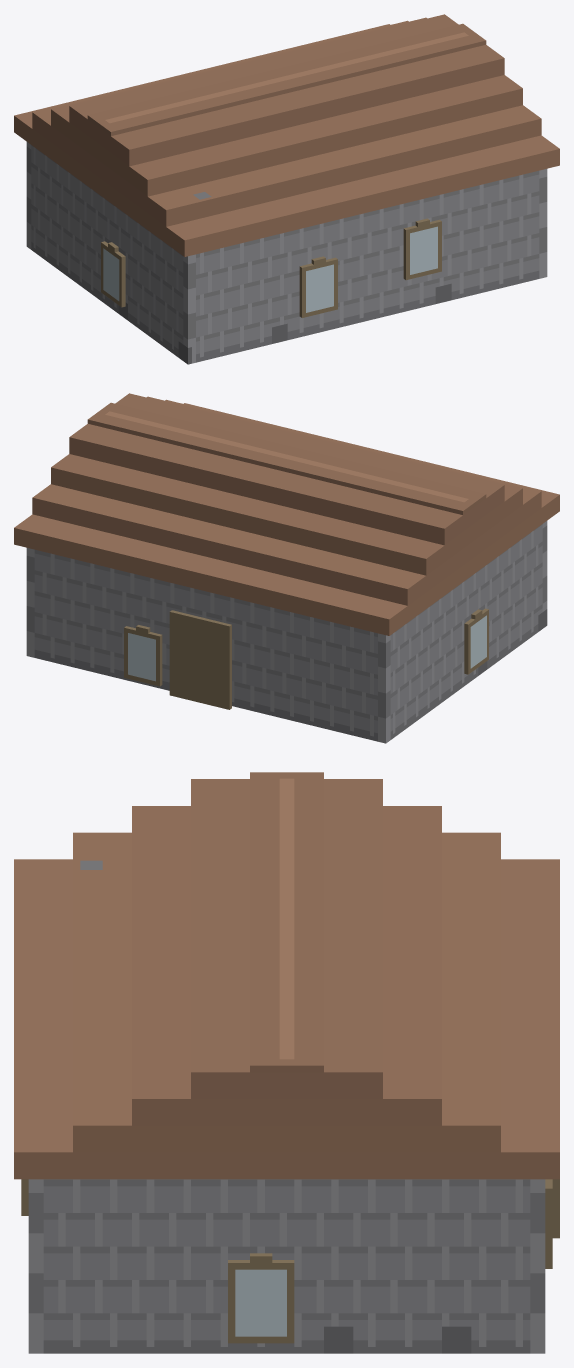
File: fundicion_04.glb
3 renders of one model, top to bottom at view 1: azimuth 30°, elevation 25°; view 2: azimuth 150°, elevation 25°; view 3: azimuth 270°, elevation 25°, orthographic. The views are drawn at different scales.
Visible parts, largest first — view 1: fundicion_04; view 2: fundicion_04; view 3: fundicion_04.
Part boxes in pixels (<box>): fundicion_04: <box>14,14,559,364</box>; fundicion_04: <box>14,393,559,743</box>; fundicion_04: <box>14,772,559,1353</box>.
Bounding box in the file's own units: 9.4 × 4.4 × 7.4.
